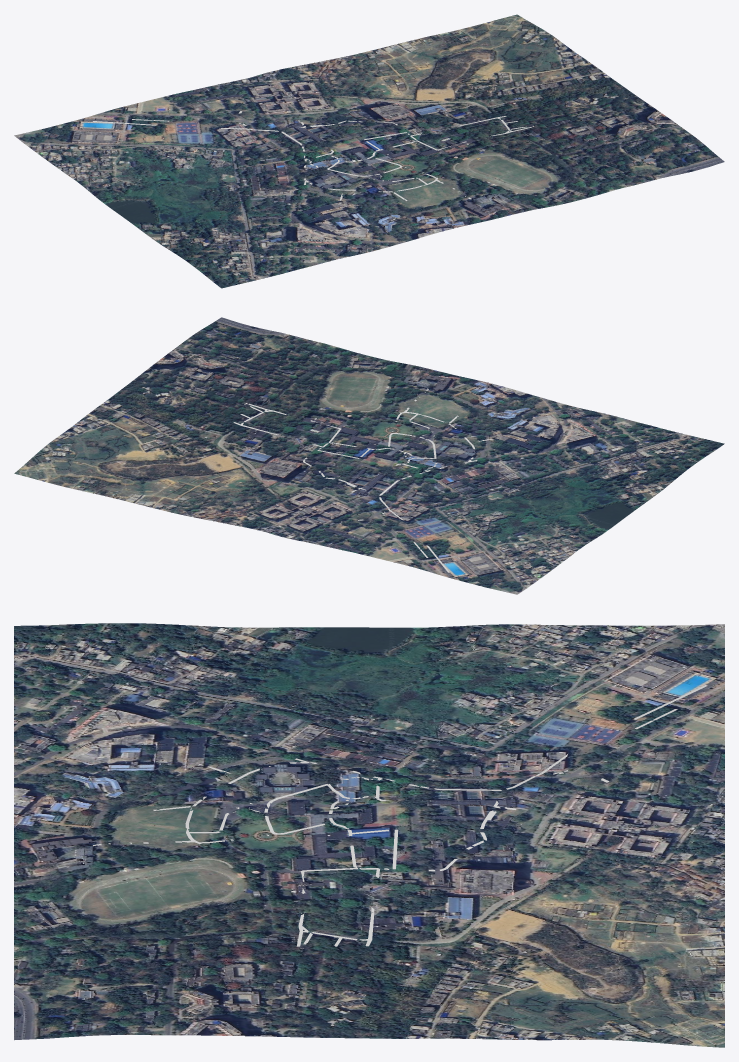
File: map.fbx
The picture shows the model from 3 angles, top to bottom: view 1: azimuth 30°, elevation 25°; view 2: azimuth 150°, elevation 25°; view 3: azimuth 270°, elevation 25°; orthographic projection. The views are drawn at different scales.
Parts seen in each view (by area): view 1: EXPORT_GOOGLE_SAT_WM, Ways; view 2: EXPORT_GOOGLE_SAT_WM, Ways; view 3: EXPORT_GOOGLE_SAT_WM, Ways.
Boxes of the visible parts, bbox=[...] form: EXPORT_GOOGLE_SAT_WM: bbox=[14, 14, 724, 288]; Ways: bbox=[93, 111, 533, 203]; EXPORT_GOOGLE_SAT_WM: bbox=[14, 317, 724, 594]; Ways: bbox=[233, 388, 498, 572]; EXPORT_GOOGLE_SAT_WM: bbox=[14, 623, 724, 1047]; Ways: bbox=[93, 685, 707, 948].
Bounding box in the file's own units: 214024 × 3493 × 152874.
